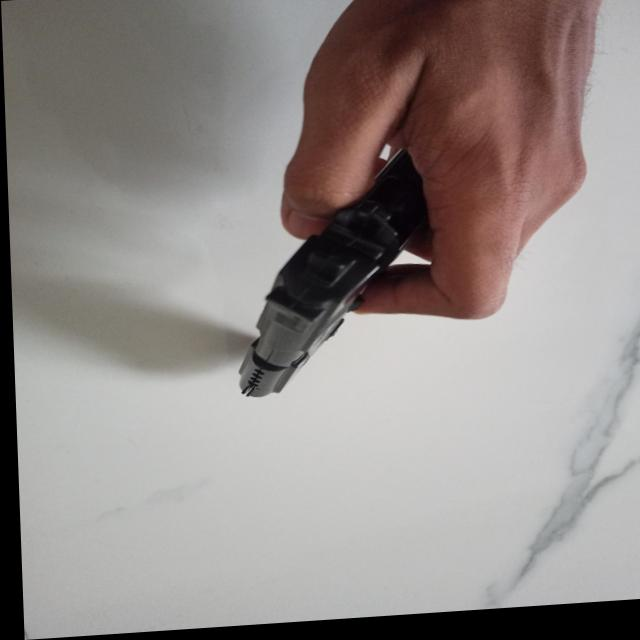handgun: (228, 154, 429, 404)
